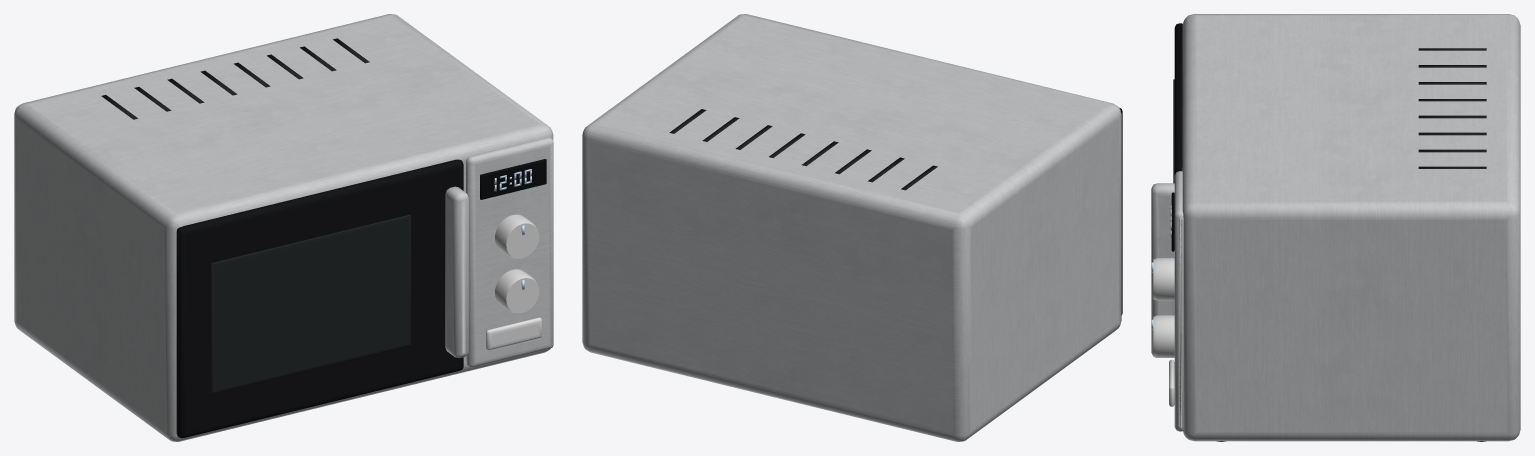
File: microondas_inox.glb
The picture shows the model from 3 angles, left to right: view 1: azimuth 30°, elevation 25°; view 2: azimuth 150°, elevation 25°; view 3: azimuth 270°, elevation 25°; orthographic projection. The views are drawn at different scales.
Visible parts, largest first — view 1: microondas_inox; view 2: microondas_inox; view 3: microondas_inox.
Boxes of the visible parts, bbox=[...] form: microondas_inox: bbox=[14, 14, 553, 441]; microondas_inox: bbox=[582, 14, 1122, 441]; microondas_inox: bbox=[1151, 14, 1520, 441].
Bounding box in the file's own units: 0.48 × 0.2801 × 0.38.
Materials: 7 (1 with a texture image).
